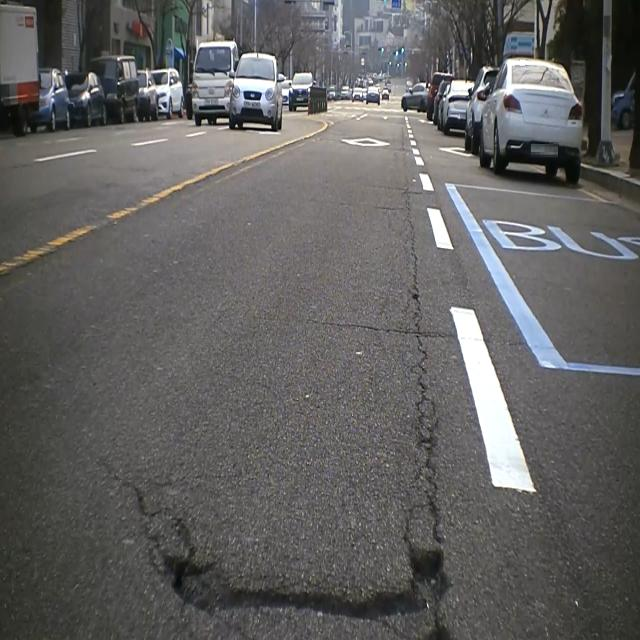Pothole: (140, 533, 458, 640)
